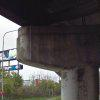Bridge: (7, 5, 88, 92)
